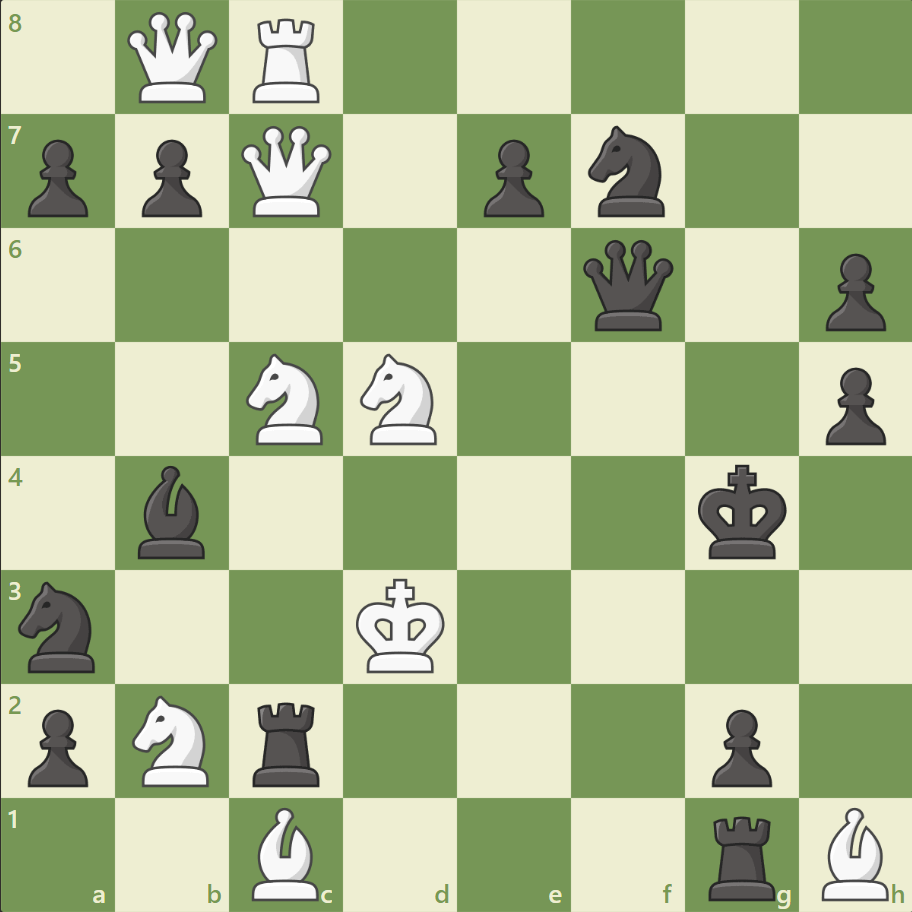B: (244, 801, 328, 904), (812, 801, 896, 904)
K: (351, 571, 451, 679)
N: (124, 688, 222, 791), (351, 348, 449, 450), (238, 348, 335, 450)
Q: (237, 122, 336, 222), (124, 9, 223, 108)
R: (246, 12, 329, 109)
b: (131, 460, 215, 563)
k: (692, 458, 792, 566)
n: (579, 121, 676, 223), (11, 575, 108, 677)
p: (20, 132, 95, 223), (133, 132, 208, 223), (474, 132, 549, 223), (20, 700, 95, 791), (701, 700, 776, 791), (815, 246, 889, 337), (815, 359, 889, 450)
q: (578, 236, 677, 335)
r: (700, 806, 783, 904), (246, 693, 329, 790)
